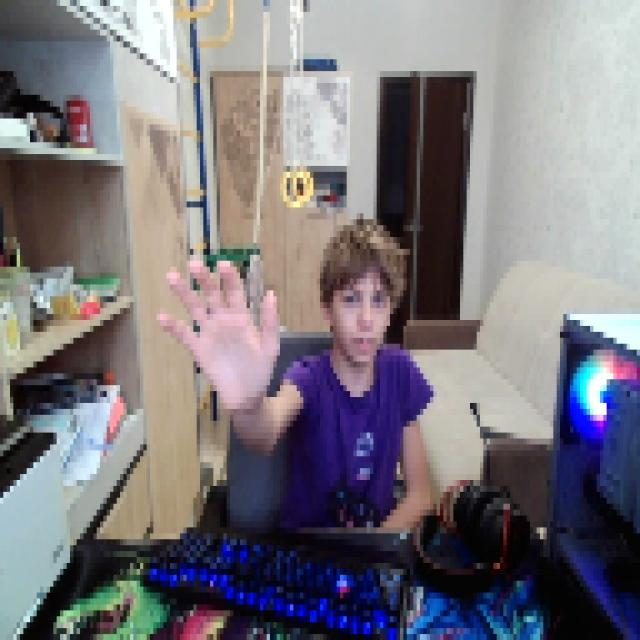hand: (150, 243, 280, 409)
